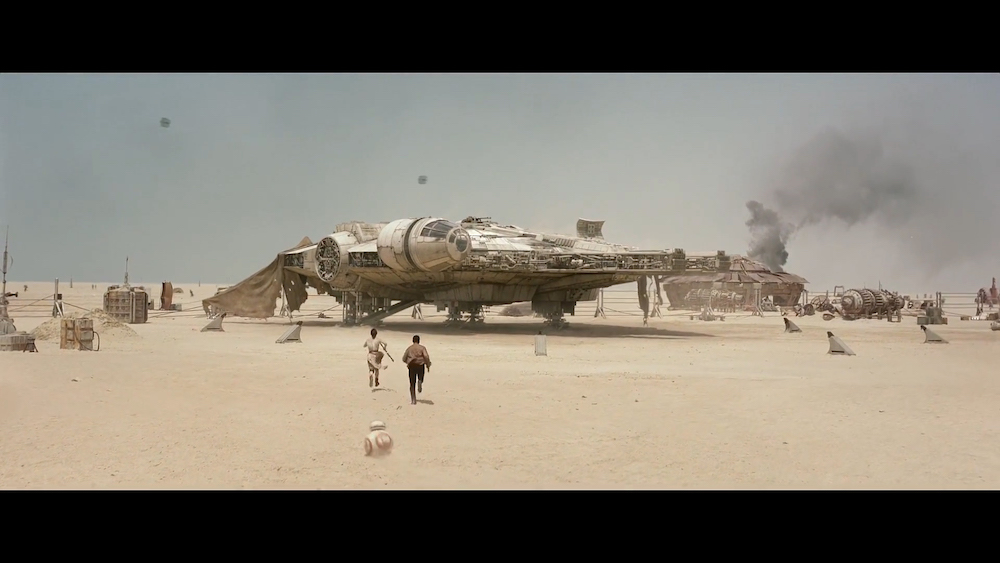Millennium Falcon: (279, 218, 731, 302)
Tie Fighter: (161, 118, 171, 129), (419, 177, 427, 185)
